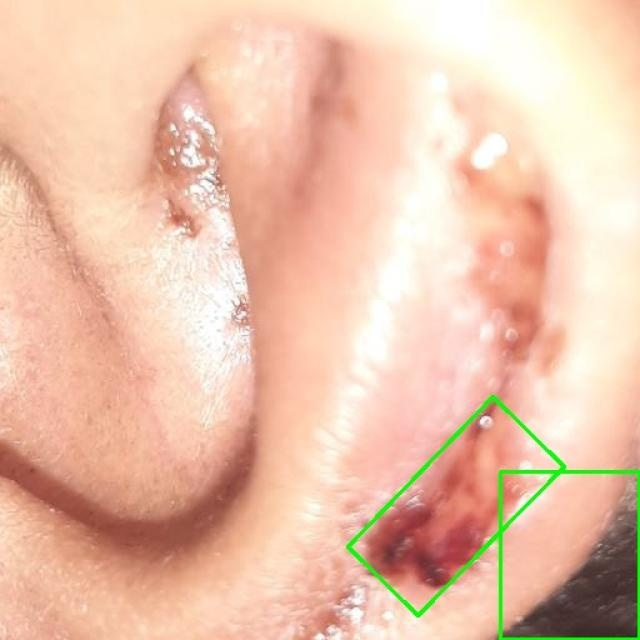Eczema: (348, 397, 564, 616), (500, 471, 639, 639)
